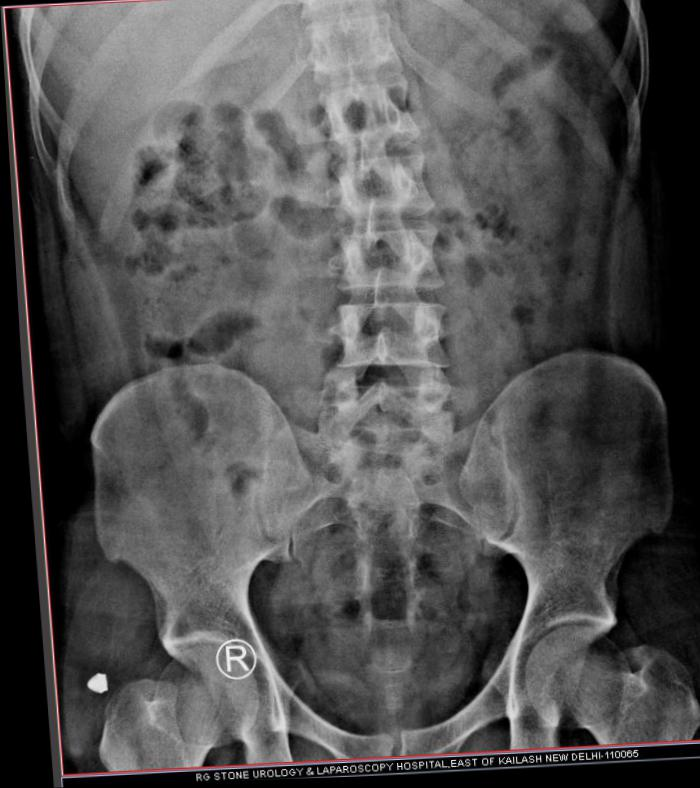vertebrae: (313, 76, 420, 155)
